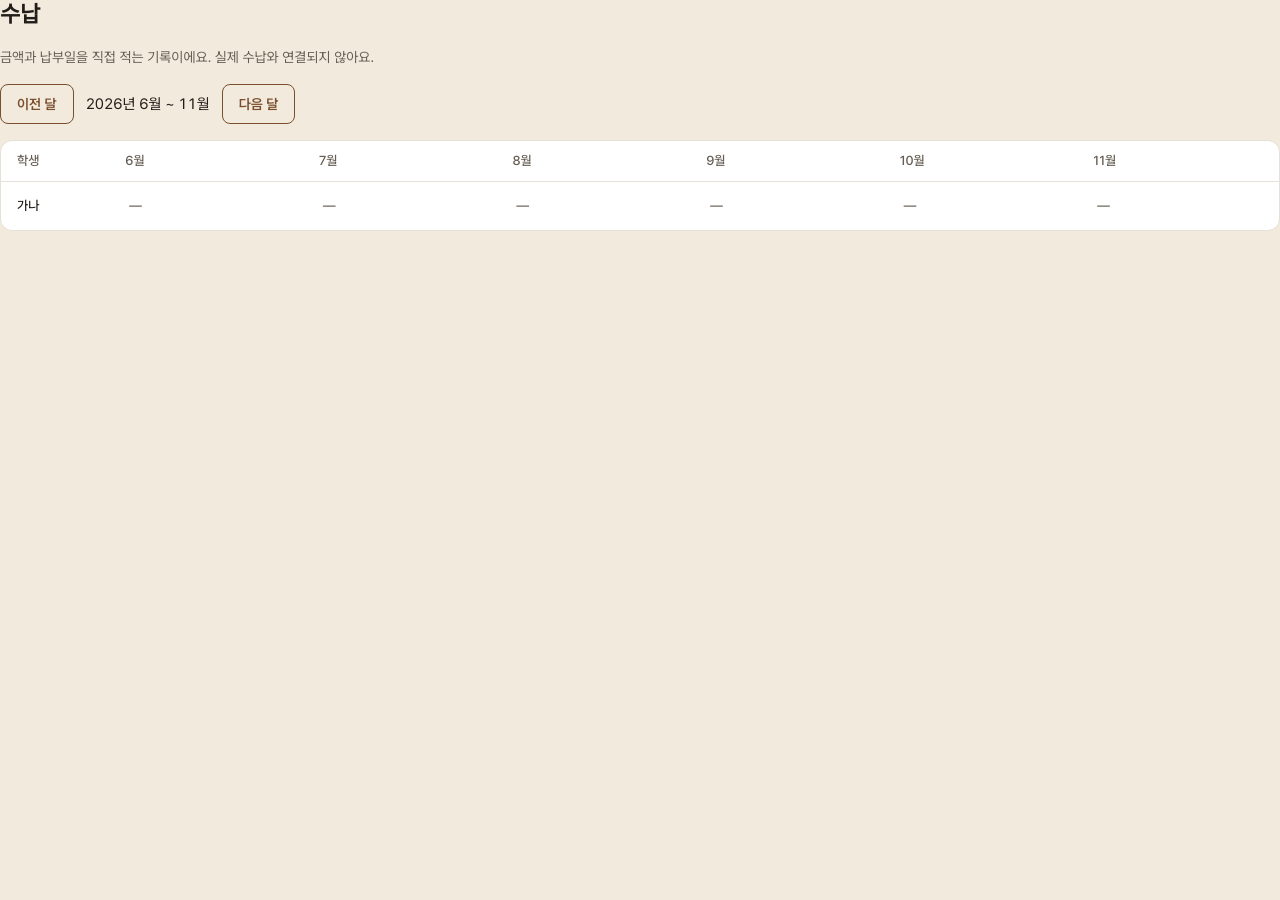
Test case: PaymentsScreen › opens the entry modal after moving back to a cached window
This screenshot has width=1280, height=900.
Click the button "이전 달" at (37, 104), box [0, 84, 74, 124]
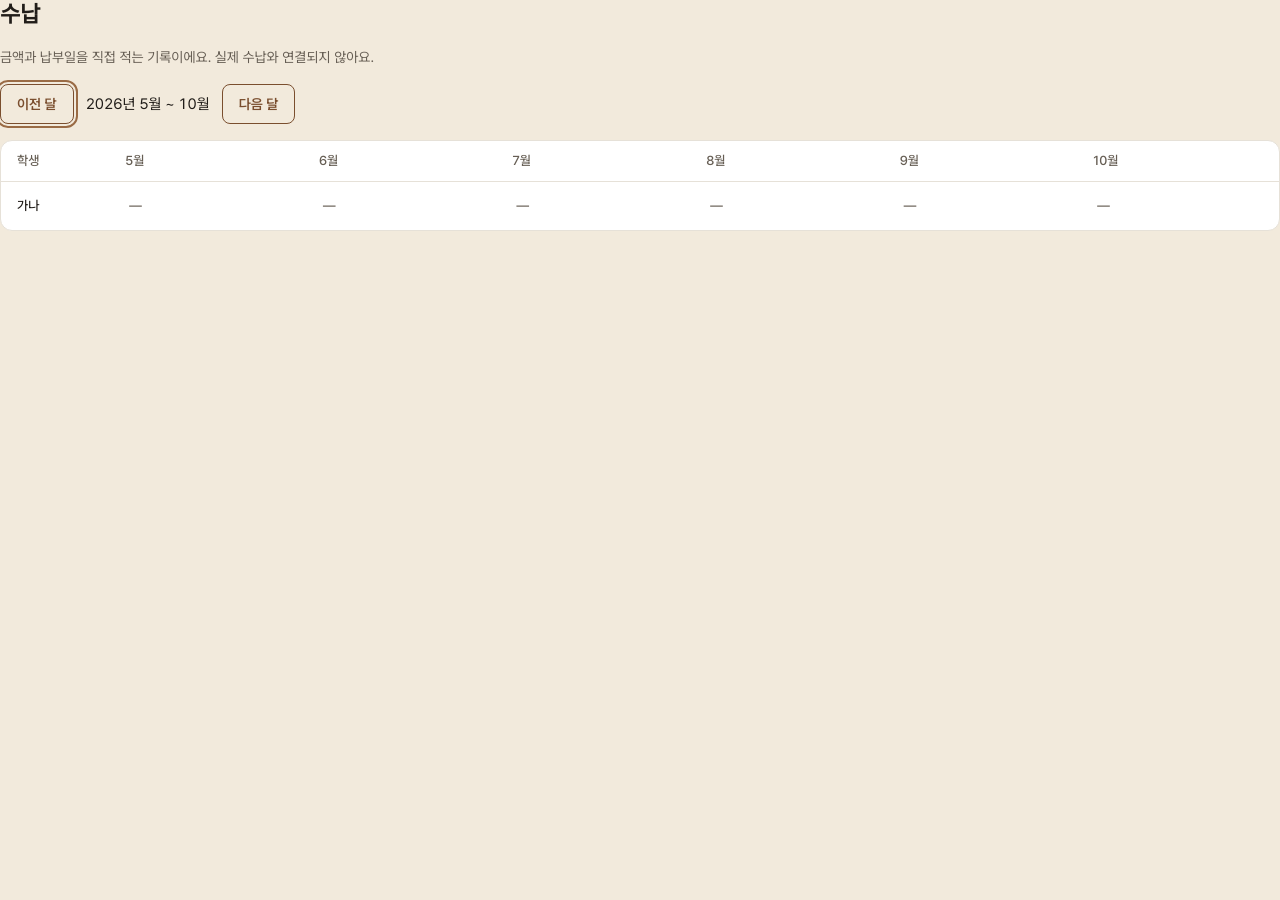
Click the button "다음 달" at (258, 104), box [222, 84, 295, 124]
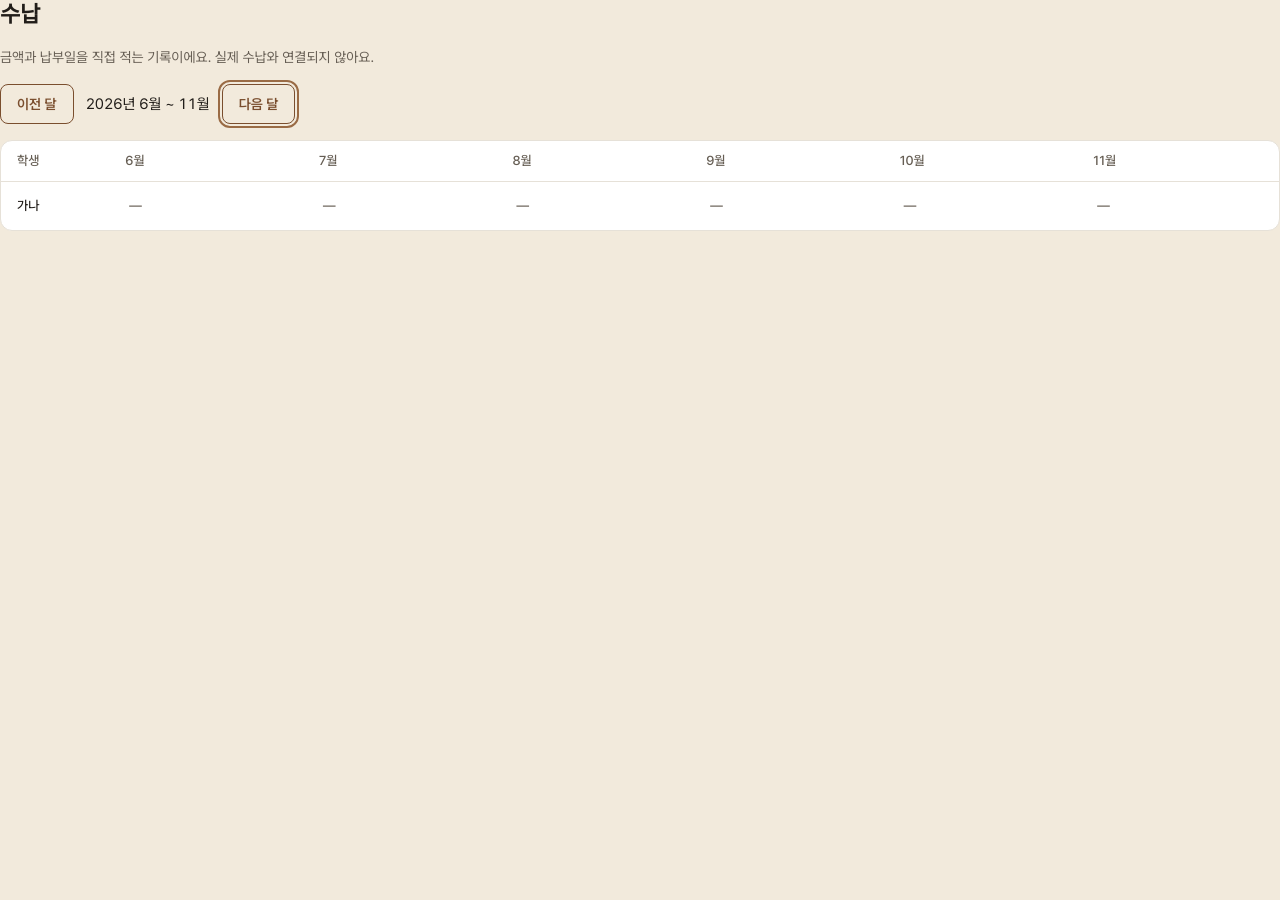
Click the 6th button "—" at (1182, 206), box [1089, 186, 1275, 226]
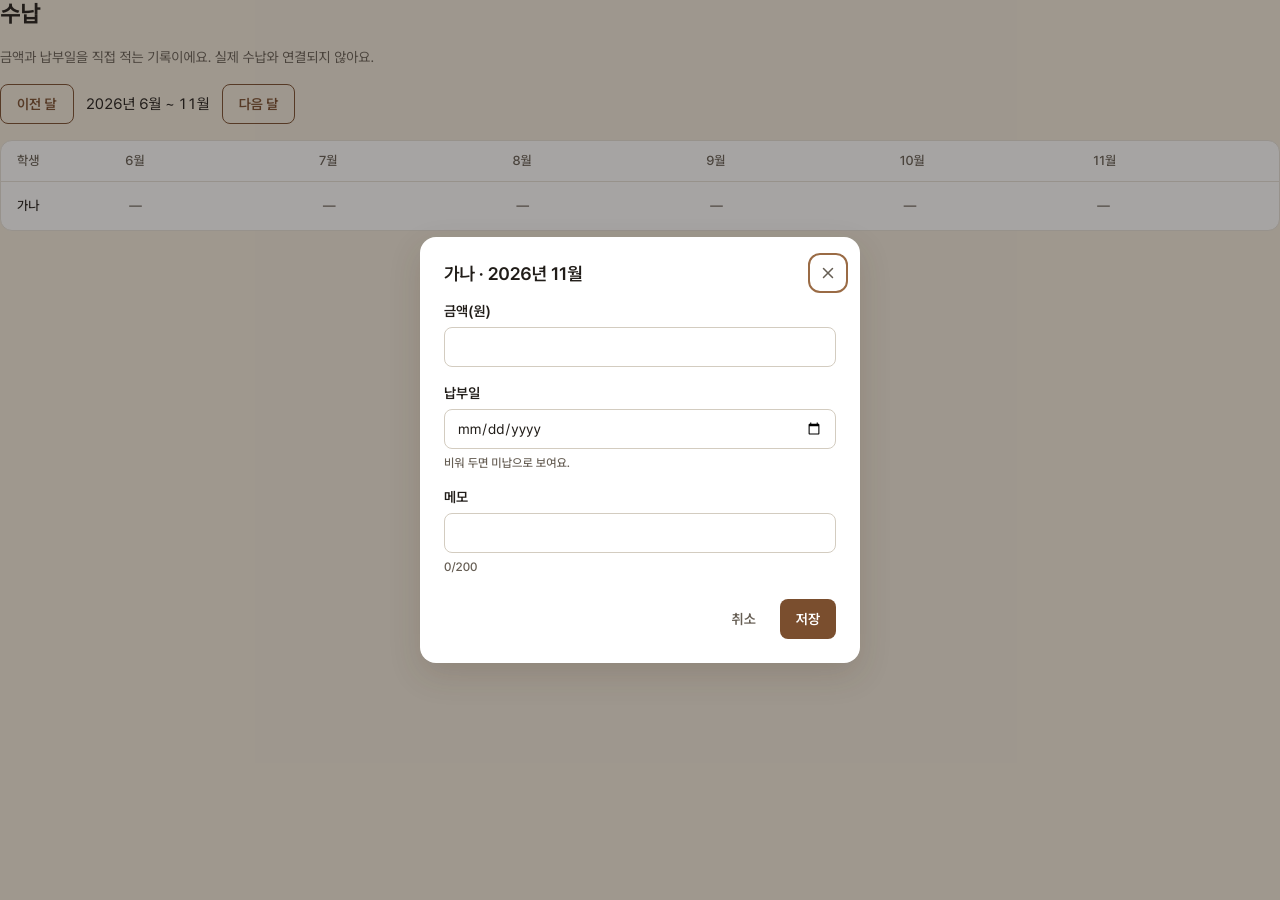
Check: the field labelled "금액(원)" is shown, box [444, 327, 836, 367]
